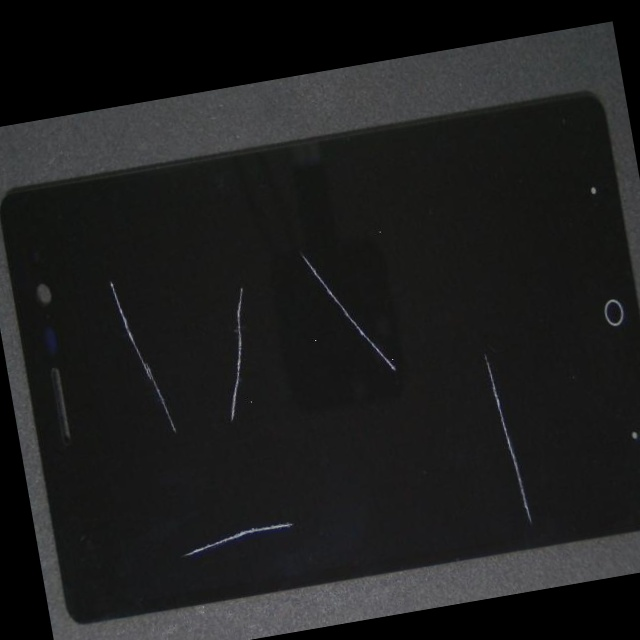scratch: (104, 94, 365, 467), (144, 98, 471, 318)
